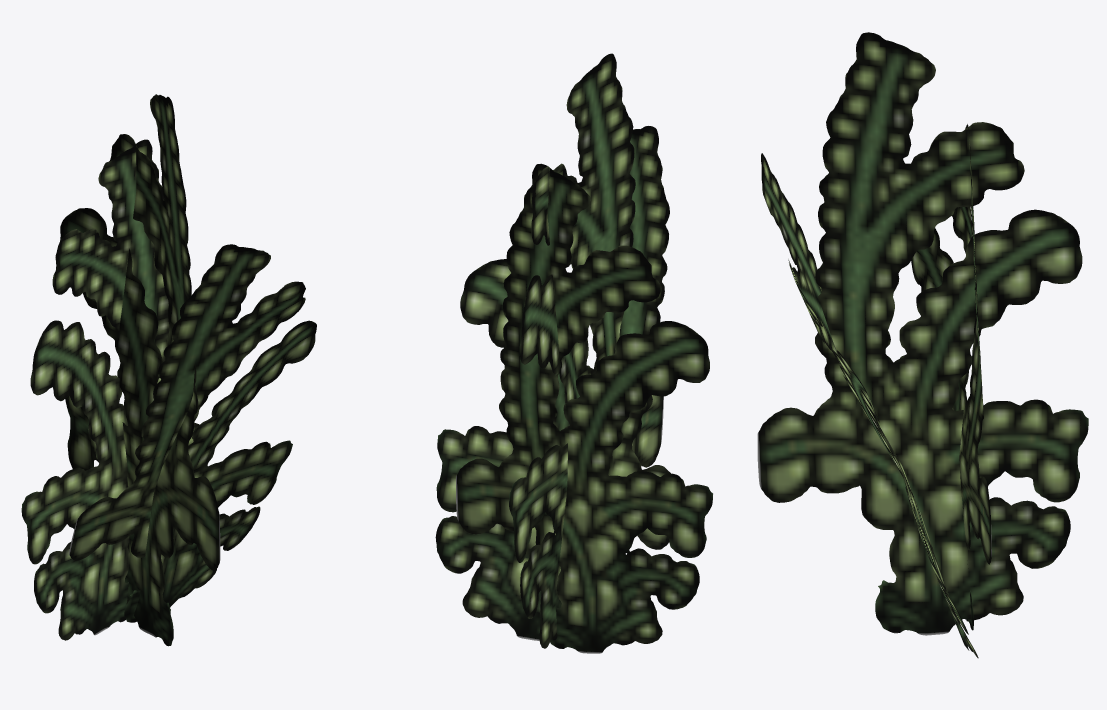
Rendered from WrathGrapes.fbx.
3 renders of one model, left to right at view 1: azimuth 30°, elevation 25°; view 2: azimuth 150°, elevation 25°; view 3: azimuth 270°, elevation 25°, orthographic. The views are drawn at different scales.
Visible parts, largest first — view 1: WrathGrapes; view 2: WrathGrapes; view 3: WrathGrapes.
Boxes of the visible parts, bbox=[...] form: WrathGrapes: bbox=[21, 94, 316, 646]; WrathGrapes: bbox=[435, 53, 712, 653]; WrathGrapes: bbox=[757, 32, 1088, 658].
Size of the model in its own units: 213 by 400 by 202.
Materials: 1 (1 with a texture image).
